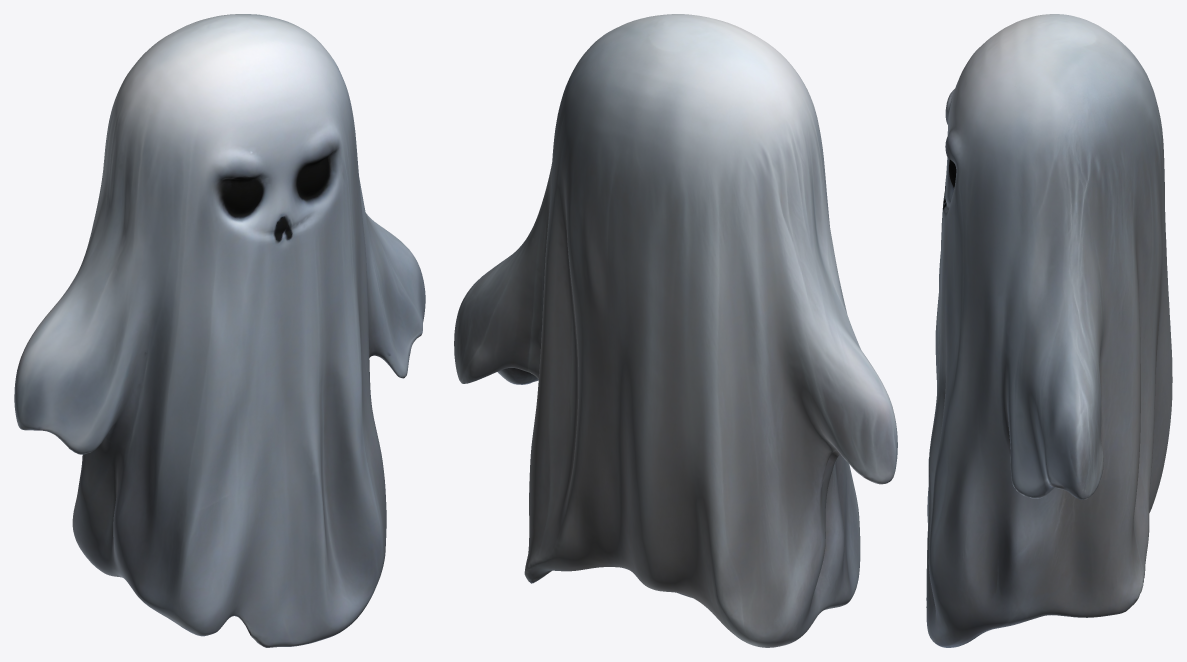
The model's file is ghost_0904235040_refine.fbx.
3 renders of one model, left to right at view 1: azimuth 30°, elevation 25°; view 2: azimuth 150°, elevation 25°; view 3: azimuth 270°, elevation 25°, orthographic. The views are drawn at different scales.
Parts seen in each view (by area): view 1: Mesh_0; view 2: Mesh_0; view 3: Mesh_0.
Part boxes in pixels (<box>): Mesh_0: <box>14,14,425,647</box>; Mesh_0: <box>454,14,897,647</box>; Mesh_0: <box>926,14,1172,647</box>.
Bounding box in the file's own units: 146 × 200 × 74.91.
1 material, 1 textured.
